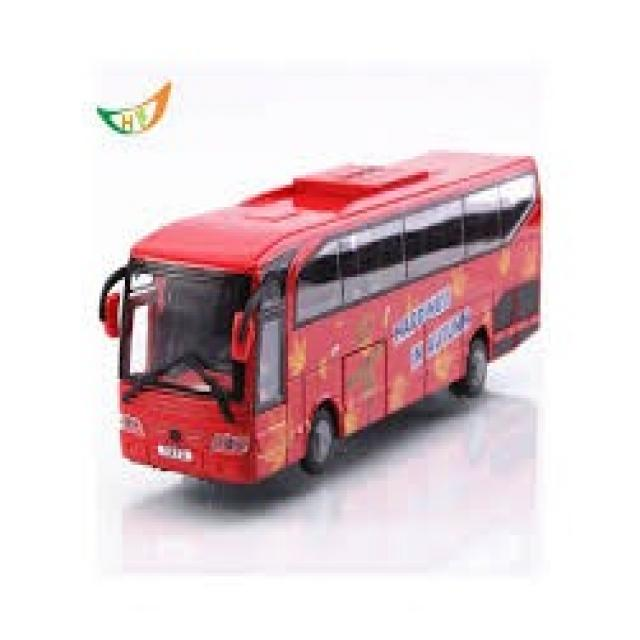bus: (100, 124, 568, 511)
